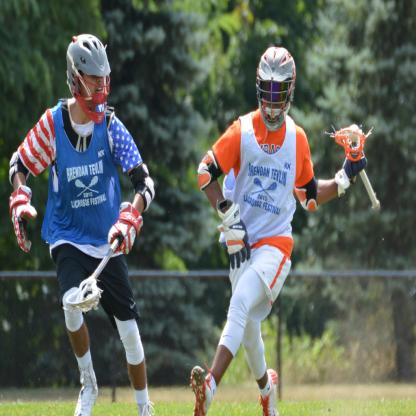Helmet: (58, 35, 108, 128), (256, 46, 297, 130)
